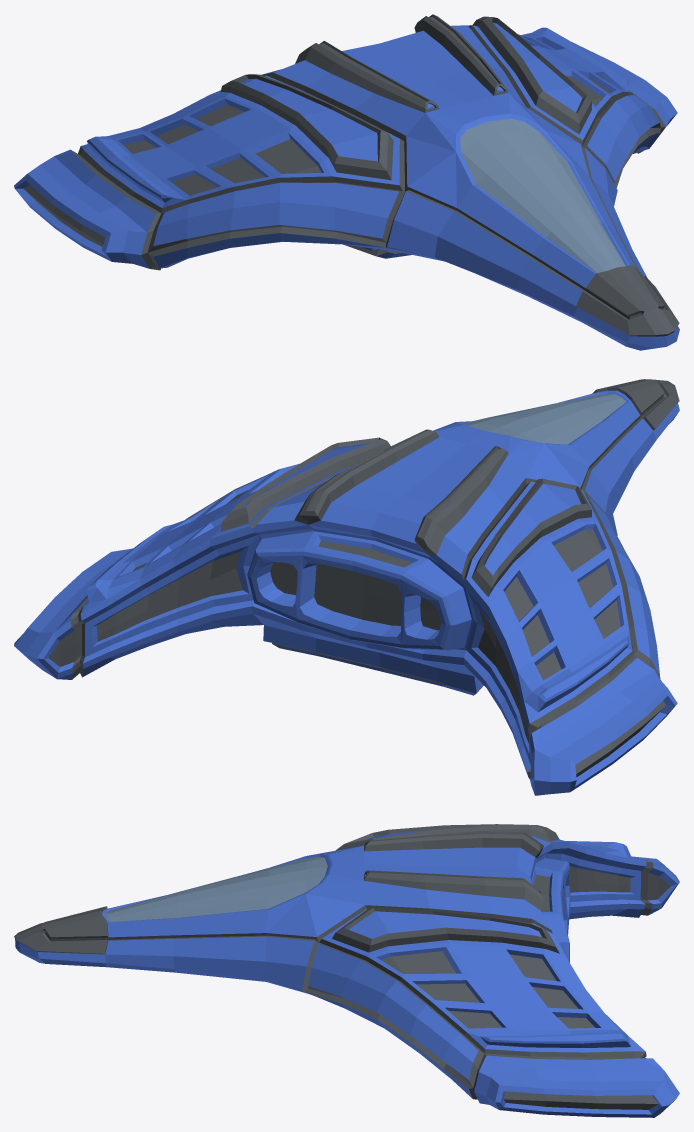
File: Fighter_09_Body_Blue.fbx
The picture shows the model from 3 angles, top to bottom: view 1: azimuth 30°, elevation 25°; view 2: azimuth 150°, elevation 25°; view 3: azimuth 270°, elevation 25°; orthographic projection. The views are drawn at different scales.
Parts seen in each view (by area): view 1: Fighter_09_Body_Blue; view 2: Fighter_09_Body_Blue; view 3: Fighter_09_Body_Blue.
Boxes of the visible parts, x1,y1,x2,y2 form: Fighter_09_Body_Blue: (14,14,679,350); Fighter_09_Body_Blue: (14,379,679,795); Fighter_09_Body_Blue: (14,824,679,1117).
Size of the model in its own units: 1089 by 331 by 1256.
Materials: 2 (2 with a texture image).
